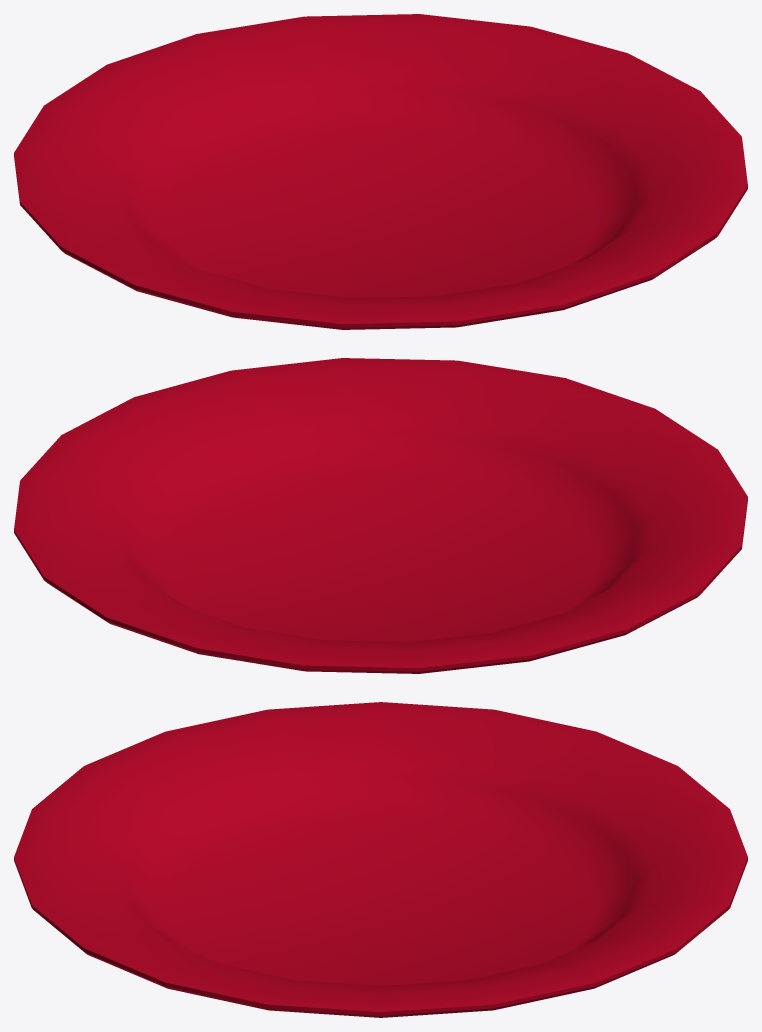
File: RedPlate.fbx
3 renders of one model, top to bottom at view 1: azimuth 30°, elevation 25°; view 2: azimuth 150°, elevation 25°; view 3: azimuth 270°, elevation 25°, orthographic.
Parts seen in each view (by area): view 1: pCylinder1; view 2: pCylinder1; view 3: pCylinder1.
Boxes of the visible parts, bbox=[...] form: pCylinder1: bbox=[14, 14, 747, 329]; pCylinder1: bbox=[14, 358, 747, 673]; pCylinder1: bbox=[14, 702, 747, 1017].
Size of the model in its own units: 2.52 by 0.2146 by 2.52.
